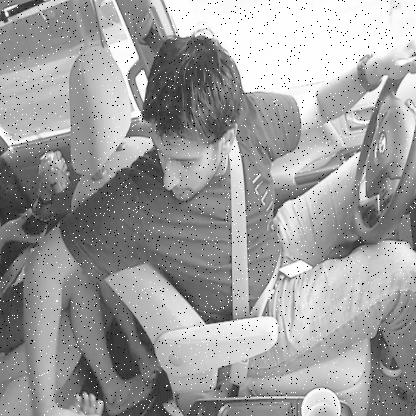seatbelt: (112, 39, 264, 284)
